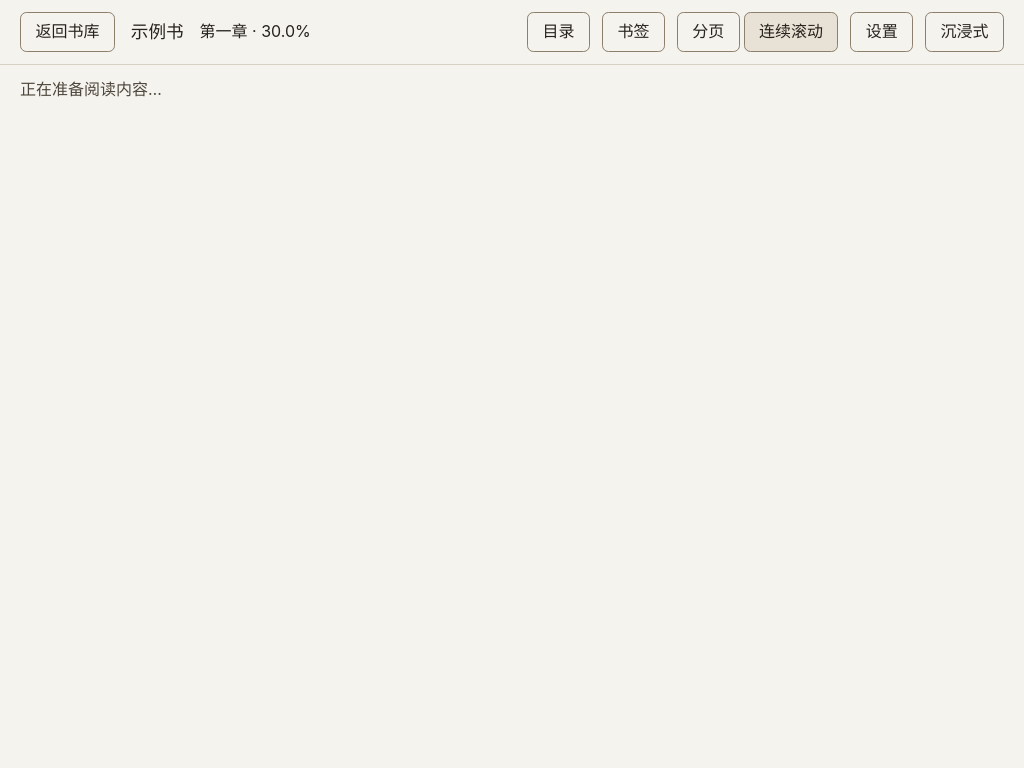
Test: ReaderShell › saves global defaults and resets the book
Click the button with aria-label "阅读设置" at (882, 32), box [850,12,913,52]
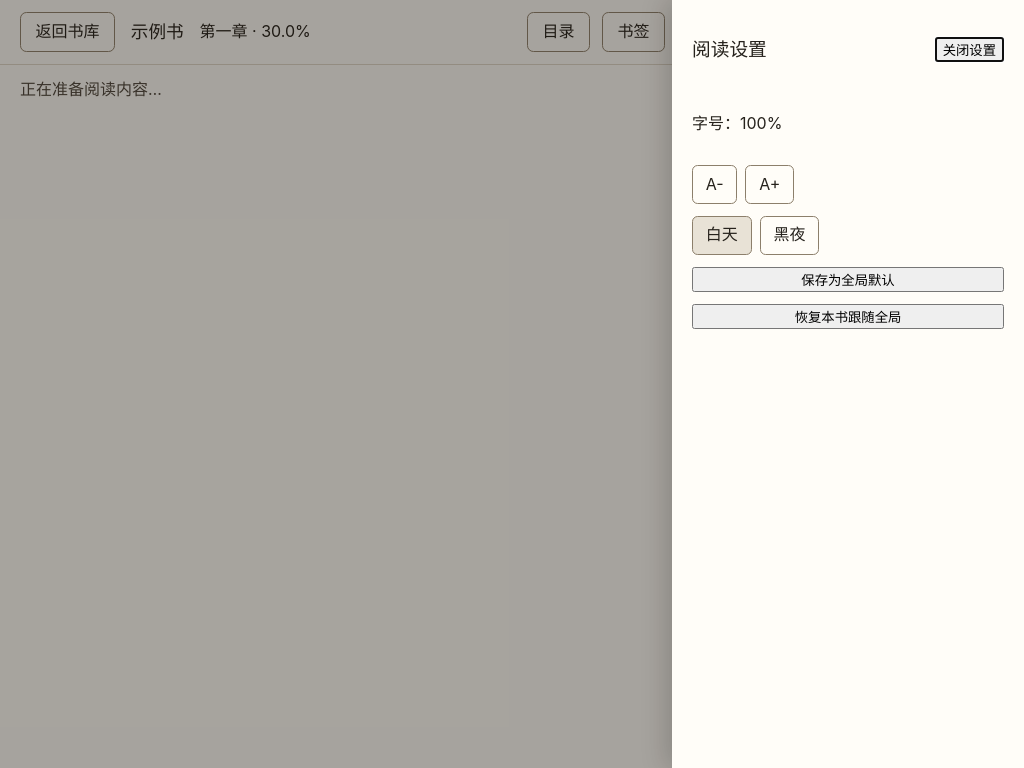
Click the button "保存为全局默认" at (848, 279), box [692,266,1004,292]
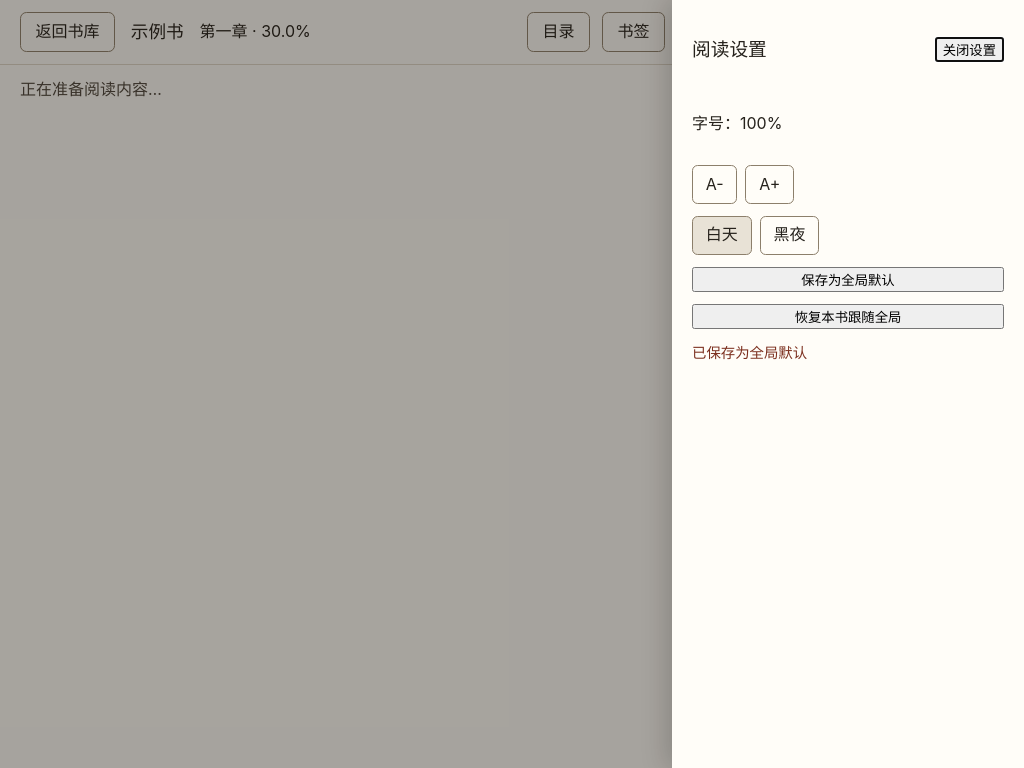
Now the text "已保存为全局默认" is shown, box [692,344,807,360]
Click the button "恢复本书跟随全局" at (848, 316), box [692,304,1004,328]
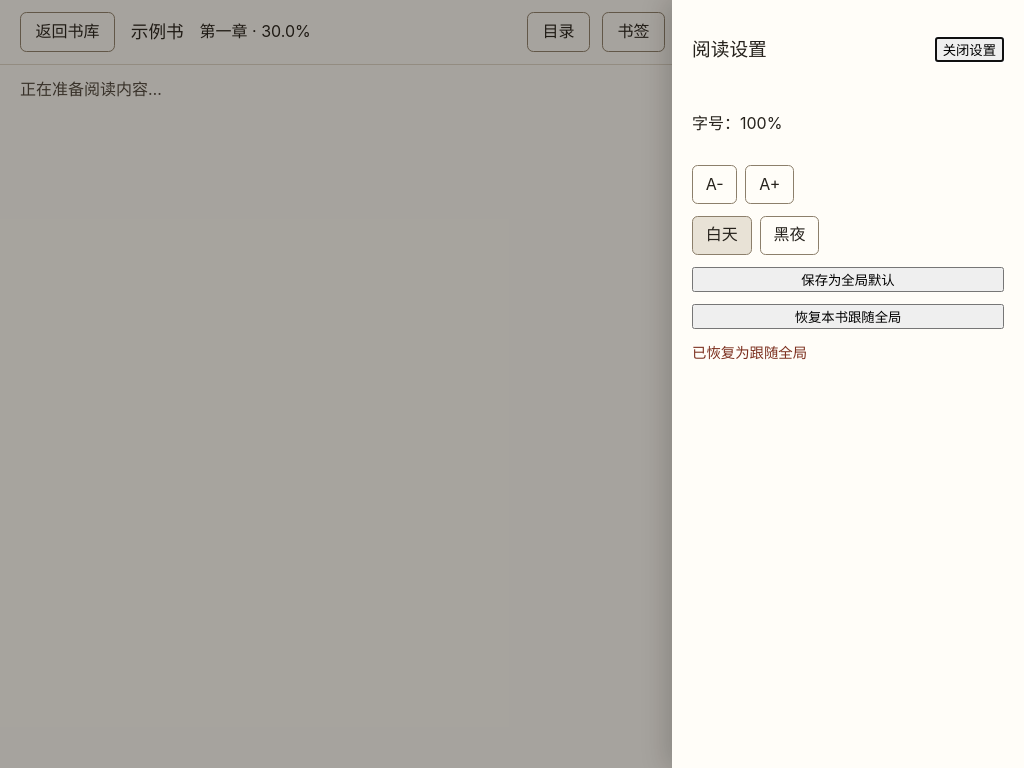
Now the text "已恢复为跟随全局" is shown, box [692,344,807,360]
